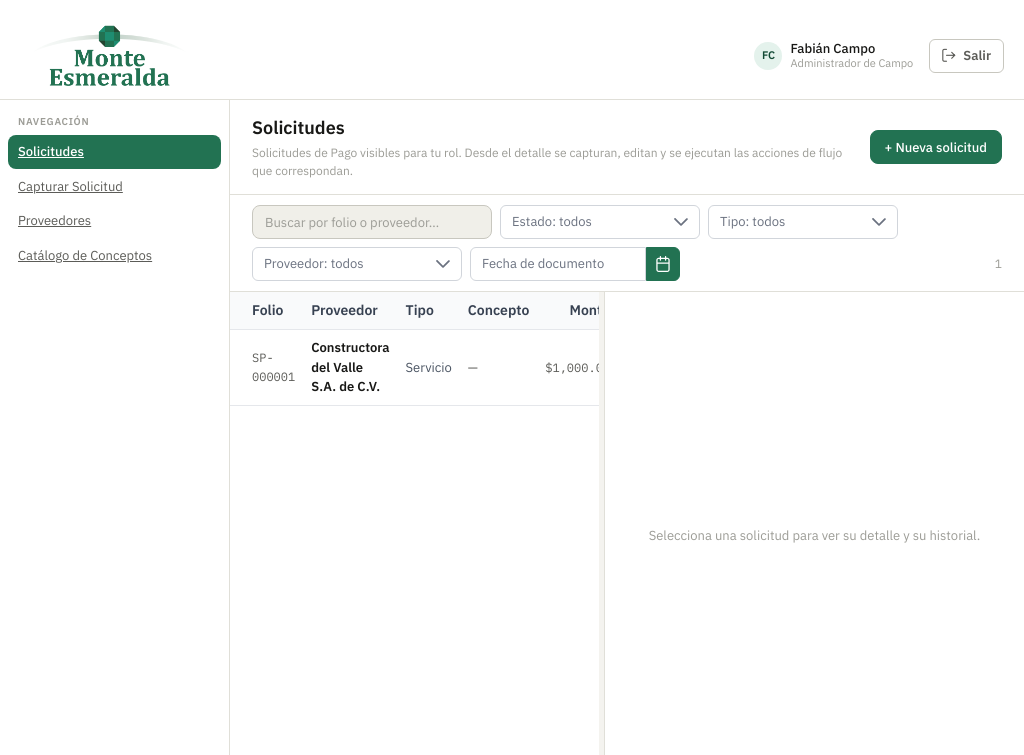
Scenario: el botón Subir está deshabilitado hasta elegir archivo
This screenshot has width=1024, height=755.
Click the text "SP-000001". click: (263, 357)
box: left=252, top=350, right=295, bottom=384
(page scrolled)
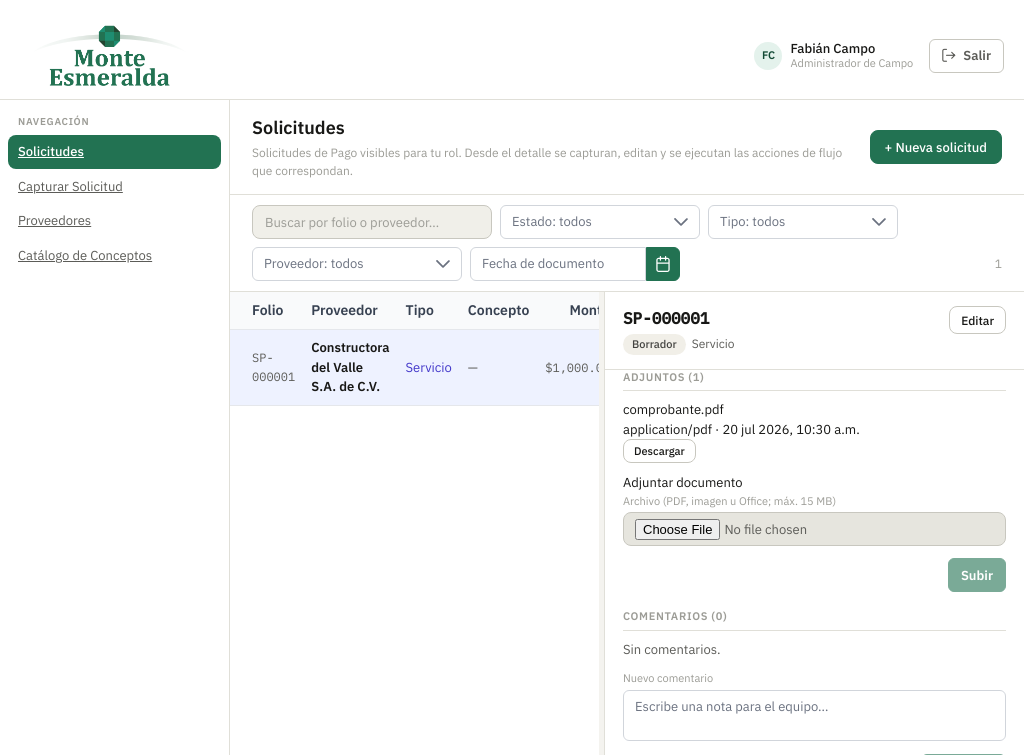
Expected: the button "Subir" is disabled, left=948, top=558, right=1006, bottom=592
